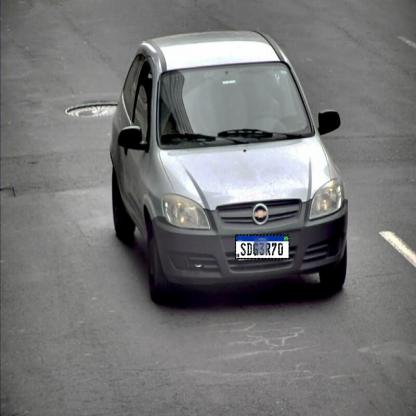PlacaM: (235, 235, 290, 260)
